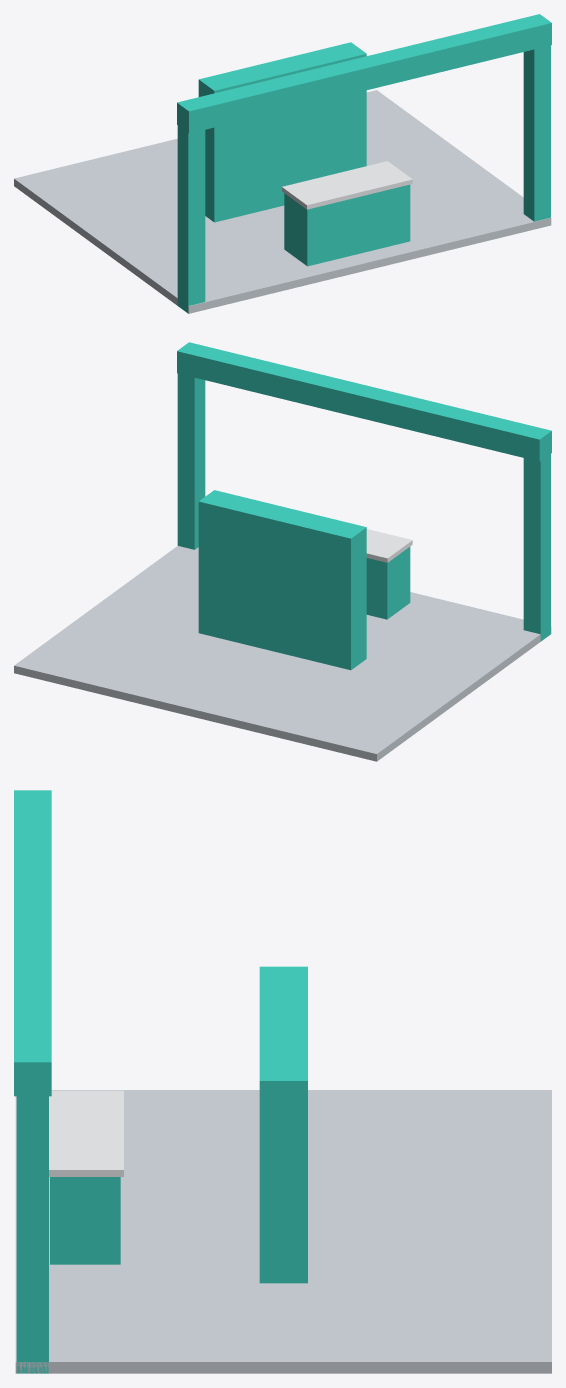
3 views of the same model, one above another, from view 1: azimuth 30°, elevation 25°; view 2: azimuth 150°, elevation 25°; view 3: azimuth 270°, elevation 25° (orthographic). The views are drawn at different scales.
Visible parts, largest first — view 1: Exhibition Booth Concept; view 2: Exhibition Booth Concept; view 3: Exhibition Booth Concept.
Part boxes in pixels (x1,y1,x2,y2): Exhibition Booth Concept: (14, 14, 551, 313); Exhibition Booth Concept: (14, 342, 551, 761); Exhibition Booth Concept: (14, 790, 551, 1373).
Bounding box in the file's own units: 6 × 3.2 × 5.02.
